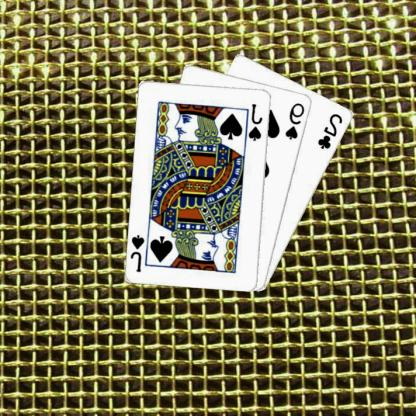2C: (317, 111, 346, 150)
9S: (284, 100, 308, 141)
JS: (248, 101, 266, 142), (130, 232, 147, 273)
